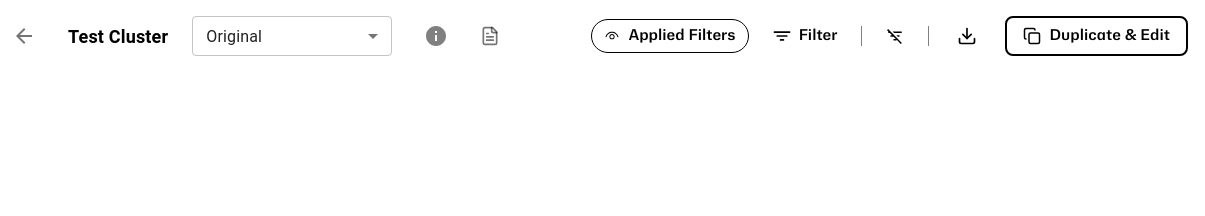
Test: PlanogramBar › opens download menu when download button is clicked
This screenshot has width=1205, height=216.
Click the button named "Download": point(967, 36) [945,18,989,54]
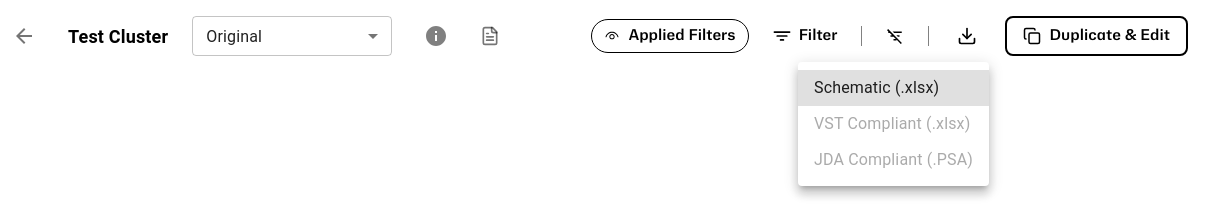
Check: the menu item "Schematic (.xlsx)" is shown, box [798,70,989,106]
